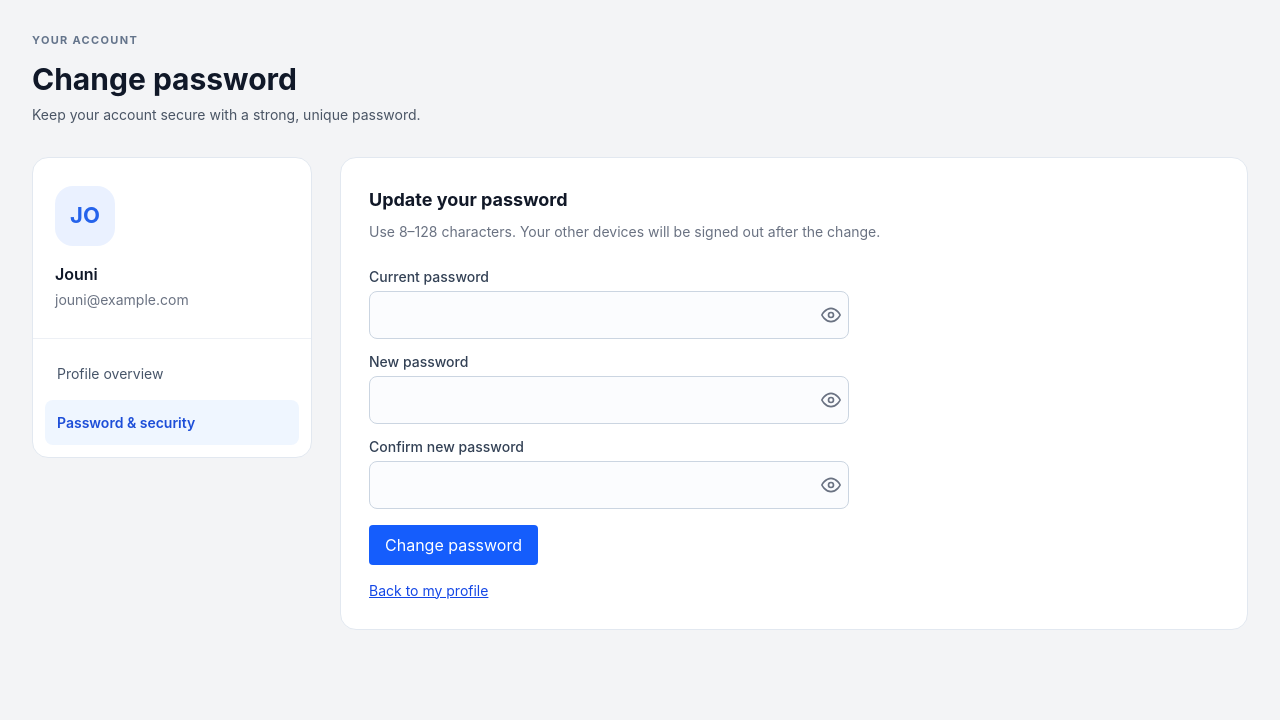
Scenario: shows server errors and leaves the form available for correction
Step 1. Type "oldpassword123" into the password field labelled "Current password" → point(609, 314), box [369,290,849,338]
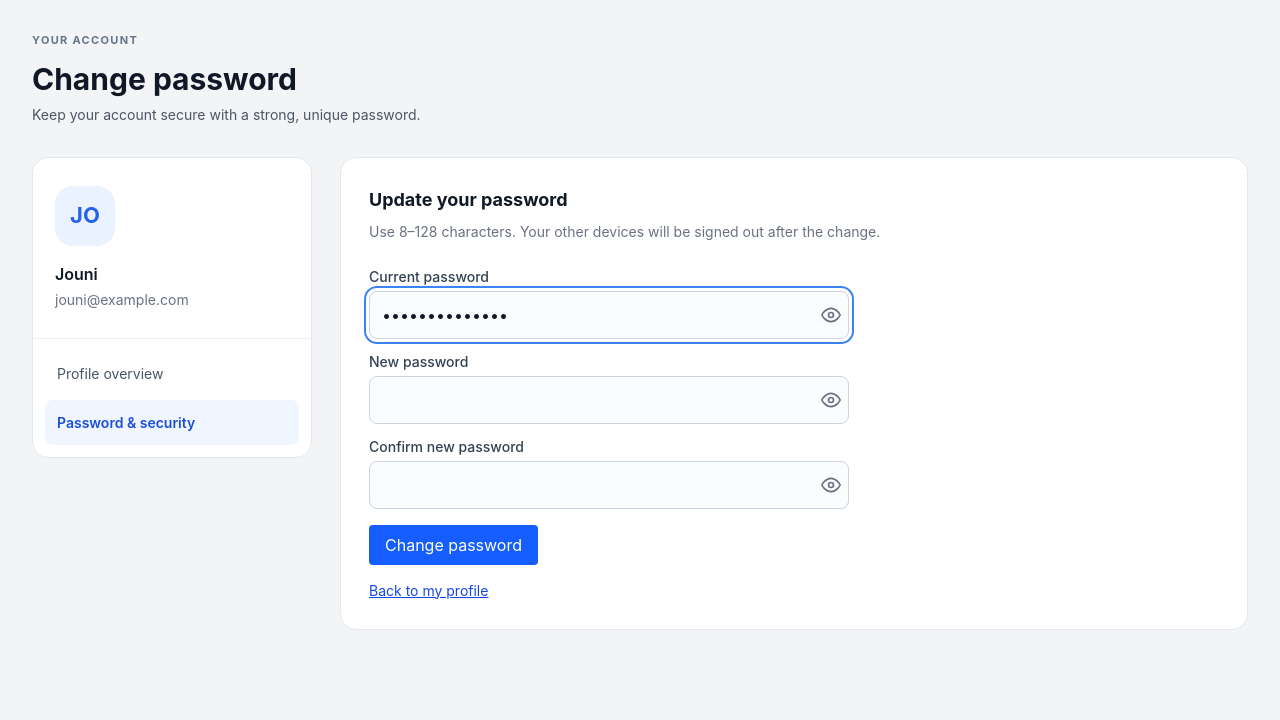
Step 2. Type "newpassword123" into the password field labelled "New password" → point(609, 400), box [369,376,849,424]
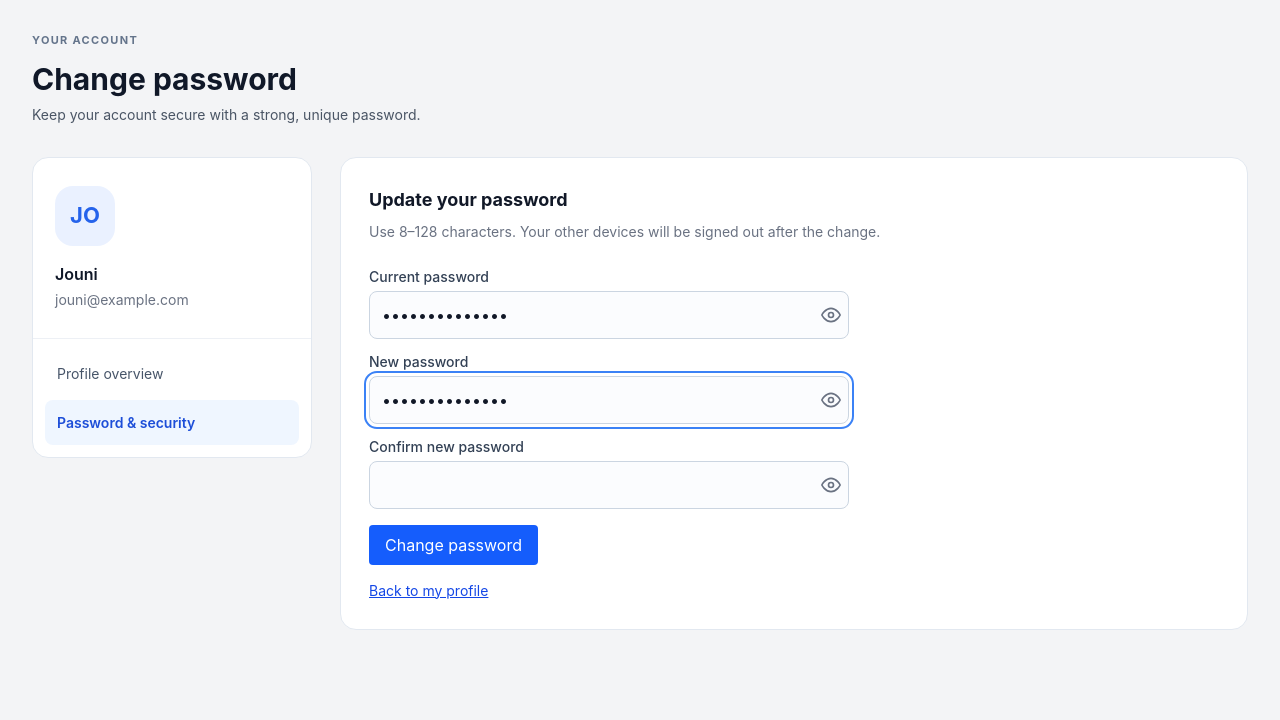
Step 3. Type "newpassword123" into the password field labelled "Confirm new password" → point(609, 484), box [369,460,849,508]
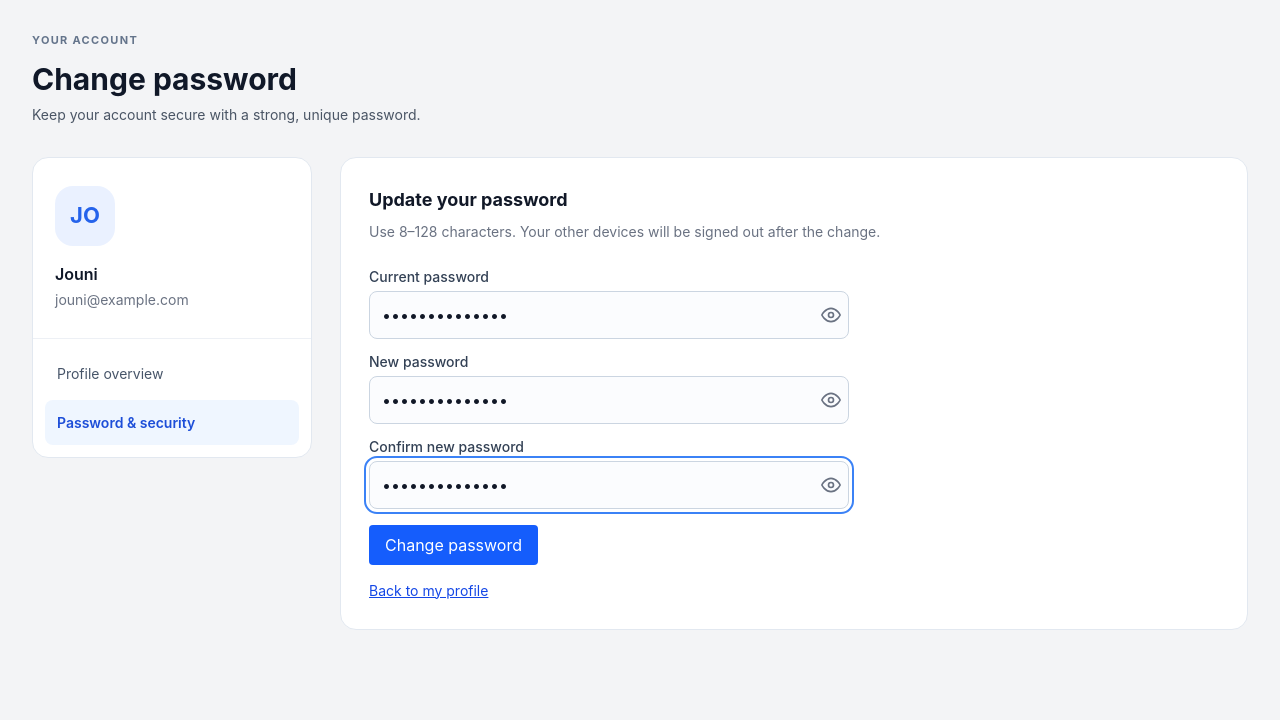
Step 4. Click the button "Change password" → point(454, 544), box [369,524,538,564]
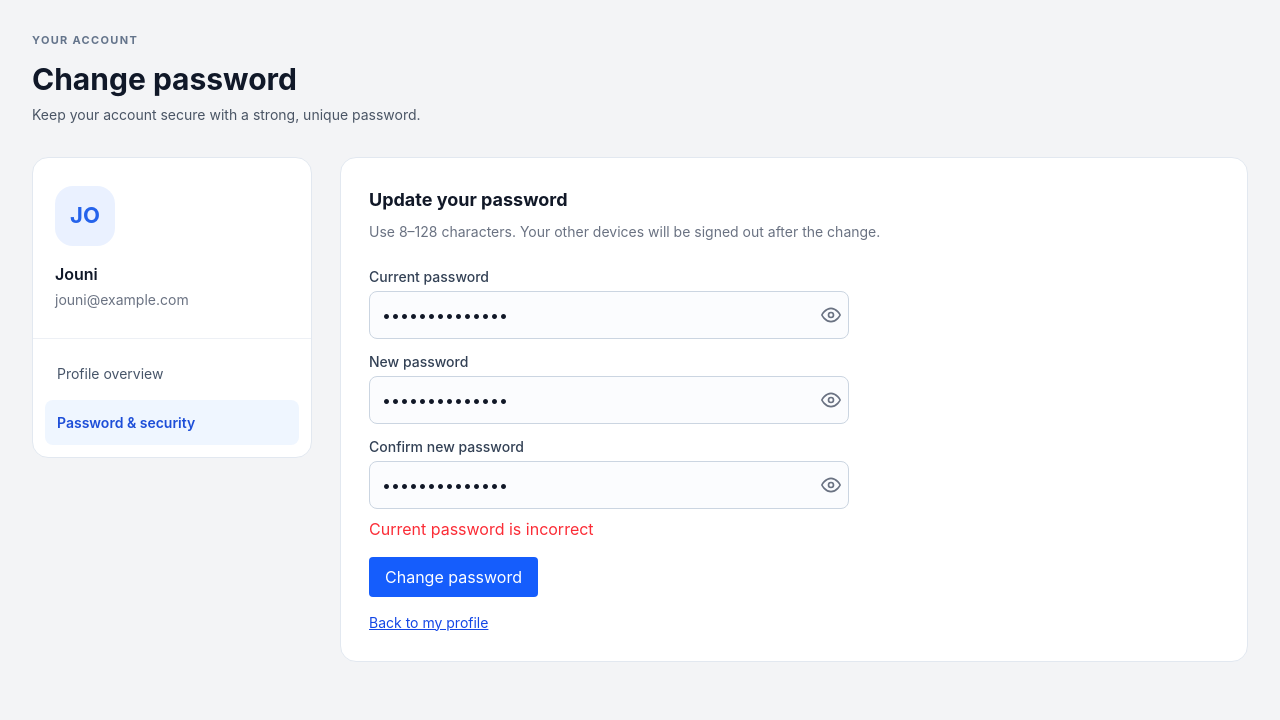
Expected: the button "Change password" is enabled, [369,556,538,596]
Expected: the message reads "Current password is incorrect", [369,518,594,538]
